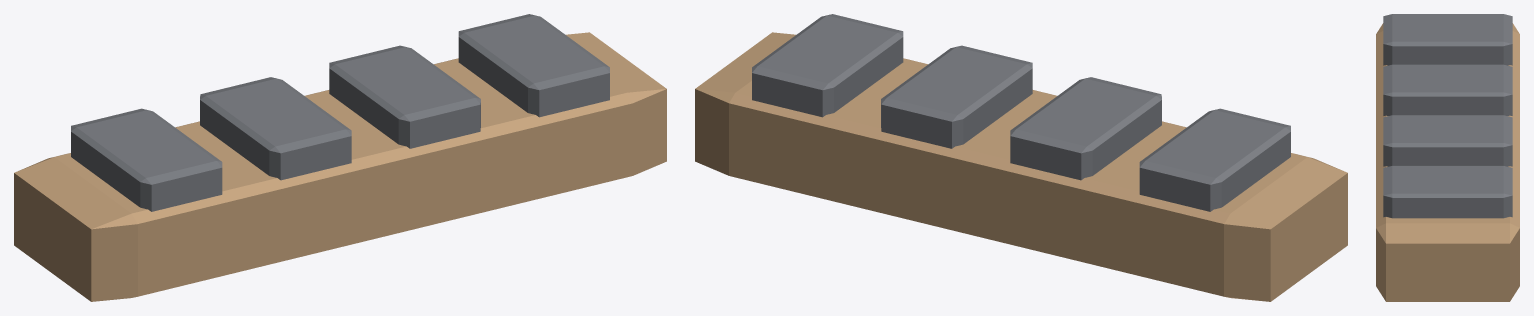
The model's file is b09_stepping_log_course.glb.
The picture shows the model from 3 angles, left to right: view 1: azimuth 30°, elevation 25°; view 2: azimuth 150°, elevation 25°; view 3: azimuth 270°, elevation 25°; orthographic projection. The views are drawn at different scales.
Parts seen in each view (by area): view 1: b09_stepping_log_course; view 2: b09_stepping_log_course; view 3: b09_stepping_log_course.
Boxes of the visible parts, x1,y1,x2,y2 form: b09_stepping_log_course: (14, 14, 666, 301); b09_stepping_log_course: (695, 14, 1347, 301); b09_stepping_log_course: (1376, 14, 1519, 301).
Bounding box in the file's own units: 2.98 × 0.557 × 0.805.
